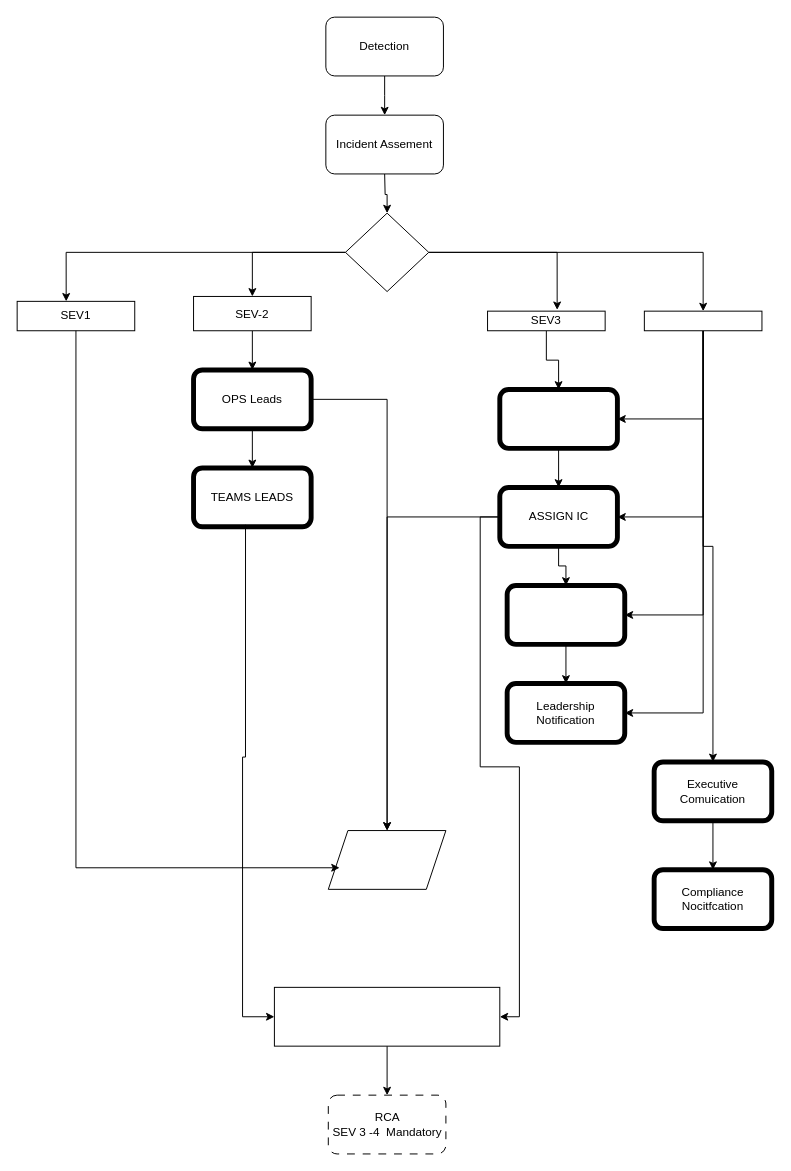
Image size: 791x1171. Some labels were removed from this diagram. Here are the shapes that lost their labels. From the top down, the centre of each, then its label:
At (x=386, y=252): "Sev-X Decsion (Matrix)".
At (x=702, y=320): "SEV-4".
At (x=558, y=418): "Bridge Activation".
At (x=565, y=614): "Comunication Cadence Statred".
At (x=386, y=859): "Monitor Inputs".
At (x=386, y=1016): "Resolution".
